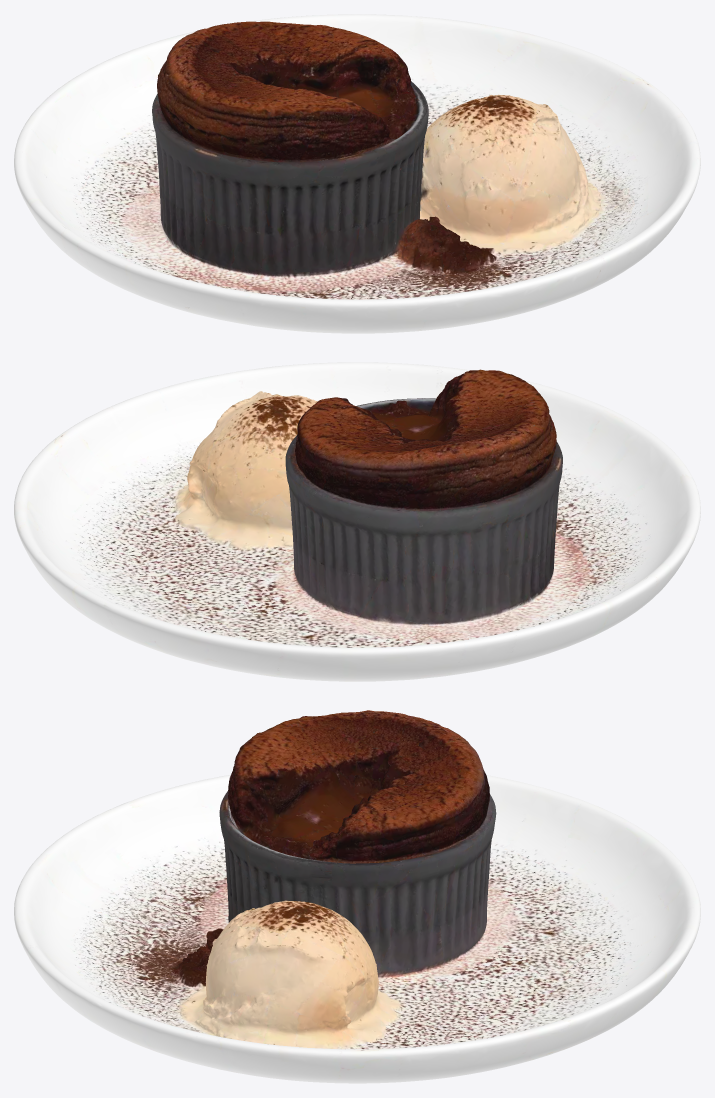
File: souffle-scene-q.glb
3 views of the same model, one above another, from view 1: azimuth 30°, elevation 25°; view 2: azimuth 150°, elevation 25°; view 3: azimuth 270°, elevation 25° (orthographic).
Size of the model in its own units: 1.9 by 0.5934 by 1.9.
Materials: 1 (1 with a texture image).
